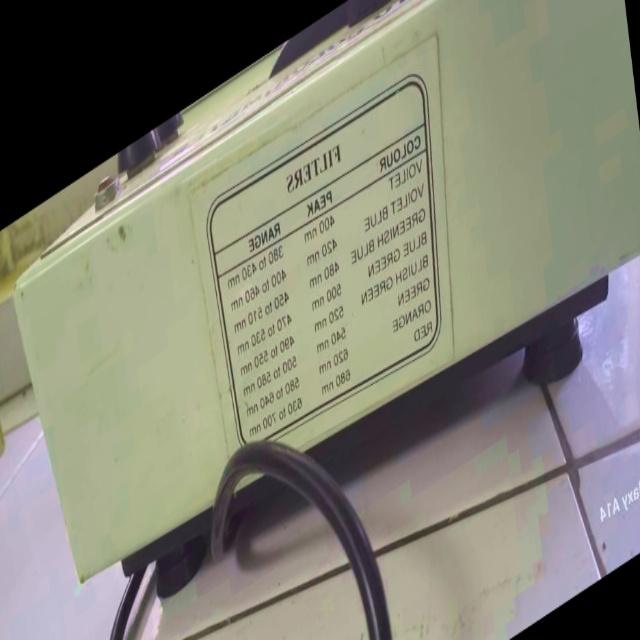Photocolorimeter: (10, 0, 618, 631)
